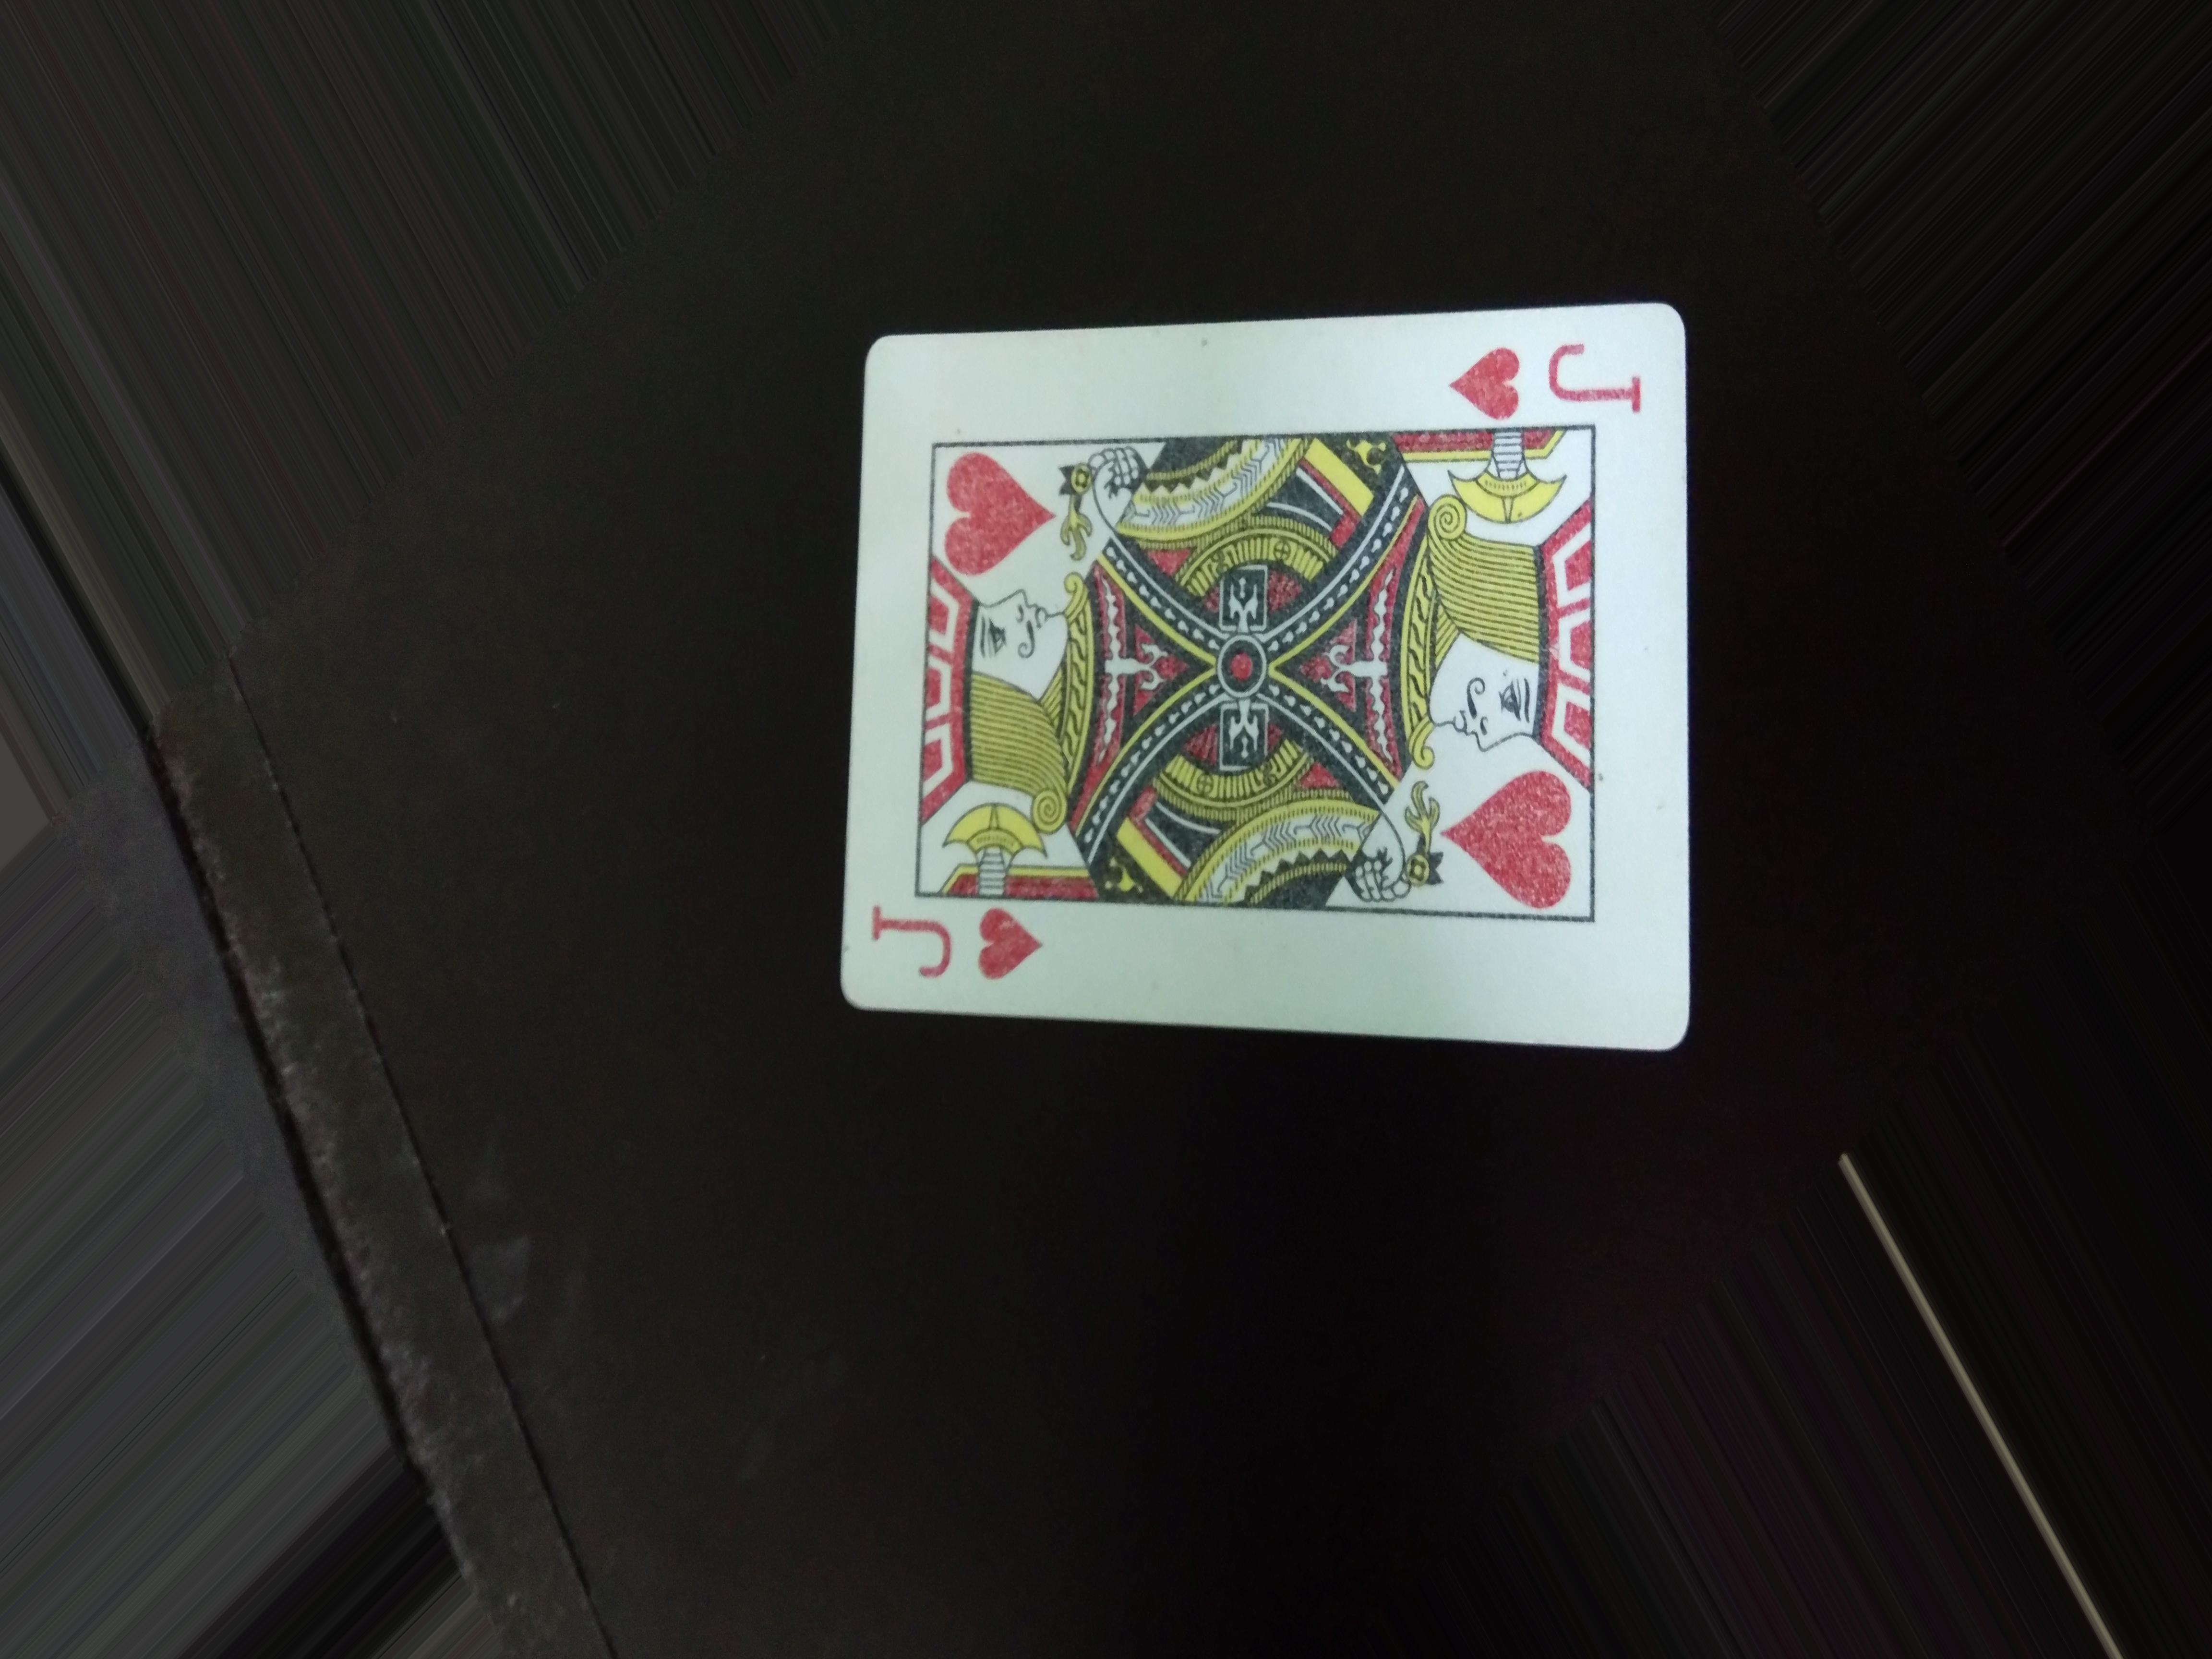JH: (1418, 319, 1655, 446)
